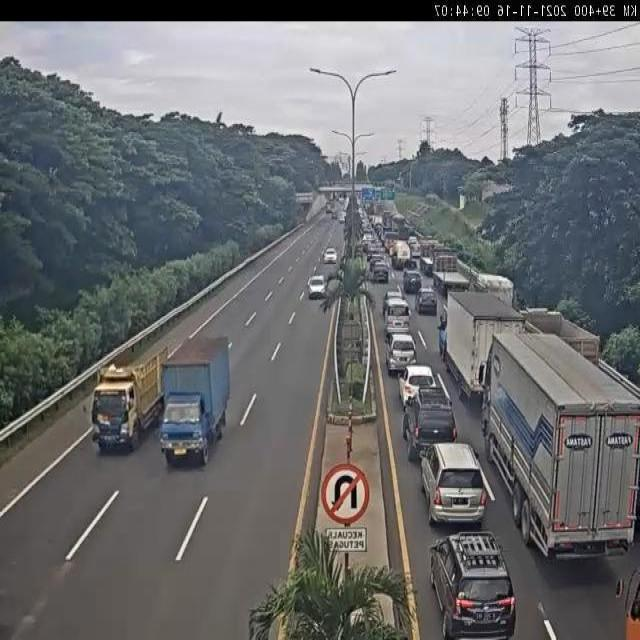Car: (428, 530, 516, 640), (419, 442, 487, 526), (402, 383, 457, 459), (398, 364, 440, 411), (385, 333, 417, 377), (416, 286, 438, 314), (402, 266, 422, 293), (308, 275, 326, 299), (371, 261, 389, 283), (332, 211, 338, 219)
Truck: (483, 327, 638, 556), (442, 289, 526, 409), (158, 335, 231, 466), (89, 339, 166, 448), (382, 211, 394, 232), (373, 222, 385, 242), (382, 228, 394, 245)
